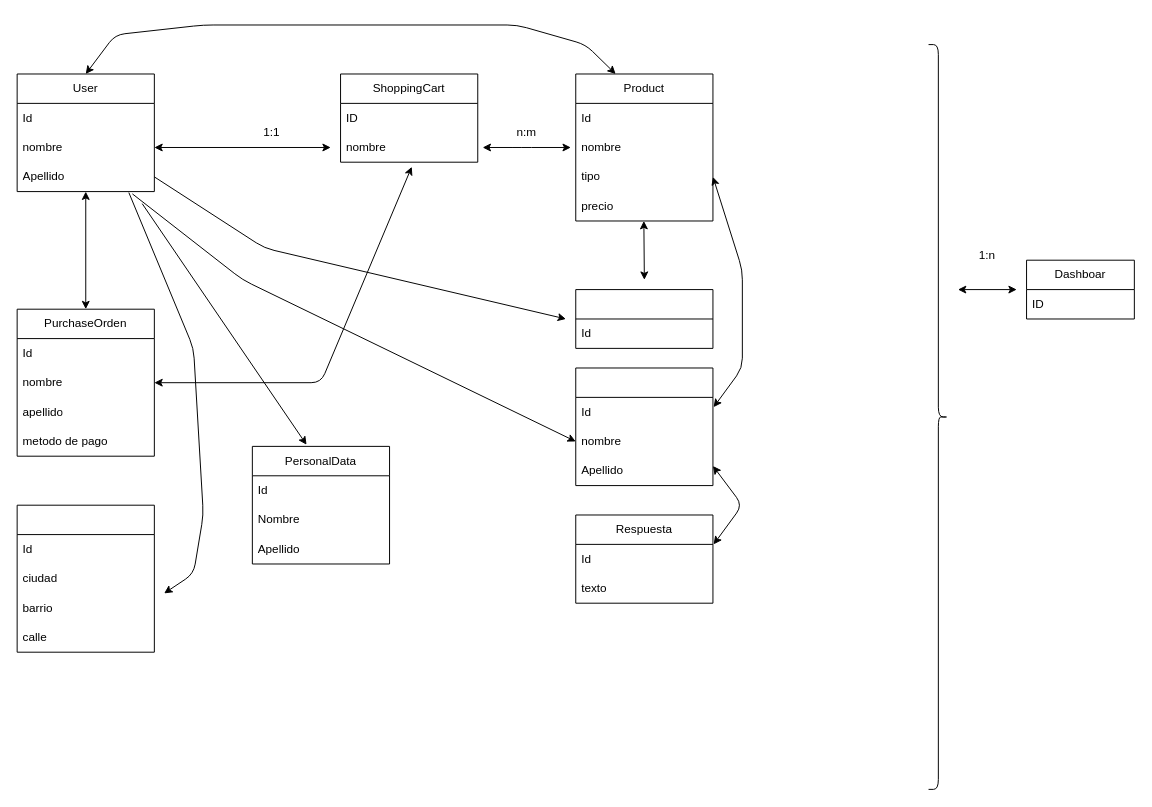
Image size: 1152x807. Some labels were removed from this diagram. Each missing label, with the box of its shape:
Comentario: (575, 367, 713, 486)
Favorito: (575, 289, 713, 348)
ShippingAdress: (16, 504, 154, 652)
